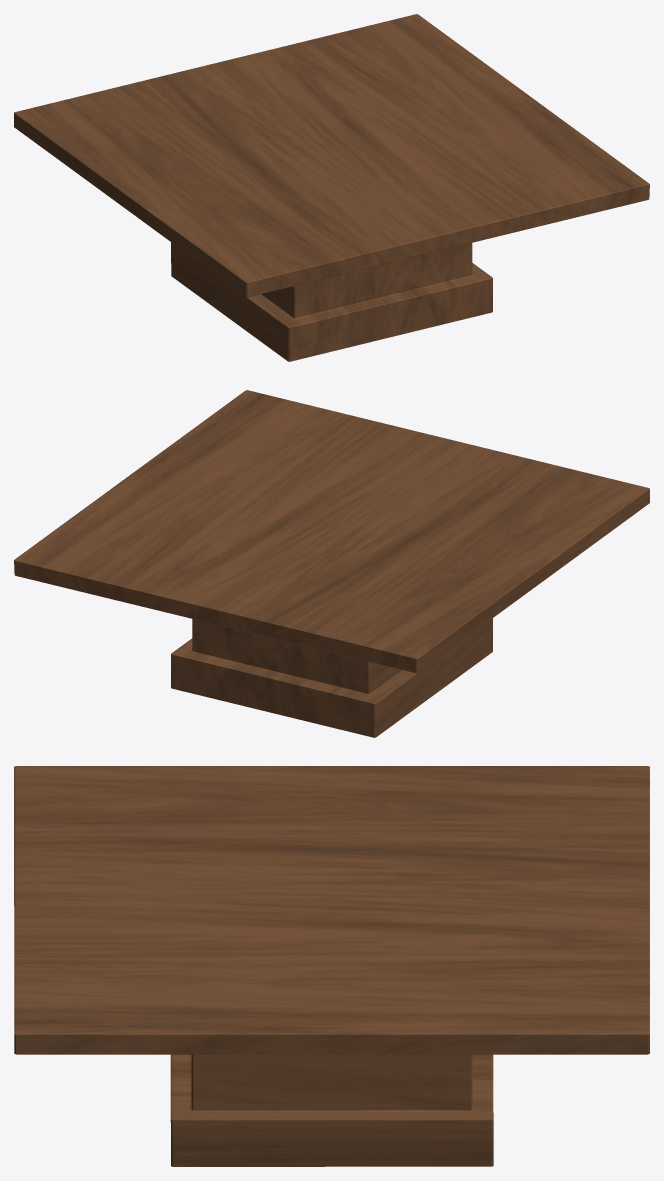
File: 2x2Display.fbx
3 views of the same model, one above another, from view 1: azimuth 30°, elevation 25°; view 2: azimuth 150°, elevation 25°; view 3: azimuth 270°, elevation 25° (orthographic). The views are drawn at different scales.
Parts seen in each view (by area): view 1: Cube; view 2: Cube; view 3: Cube.
Part boxes in pixels (x1,y1,x2,y2): Cube: (14,14,649,361); Cube: (14,390,649,737); Cube: (14,766,649,1166).
Bounding box in the file's own units: 430 × 149 × 430.
